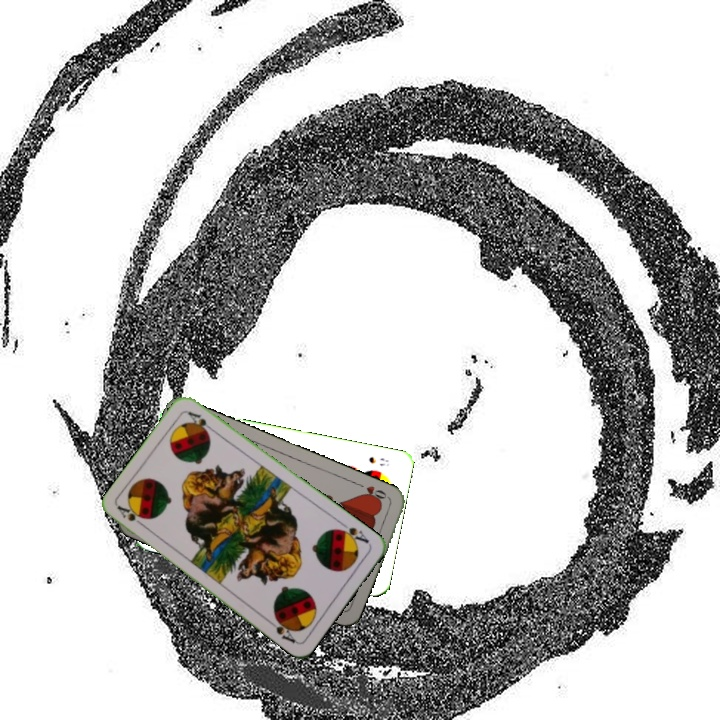HO: (353, 479, 392, 506)
S8: (365, 453, 392, 469)
SA: (333, 518, 372, 547), (114, 502, 149, 531)
